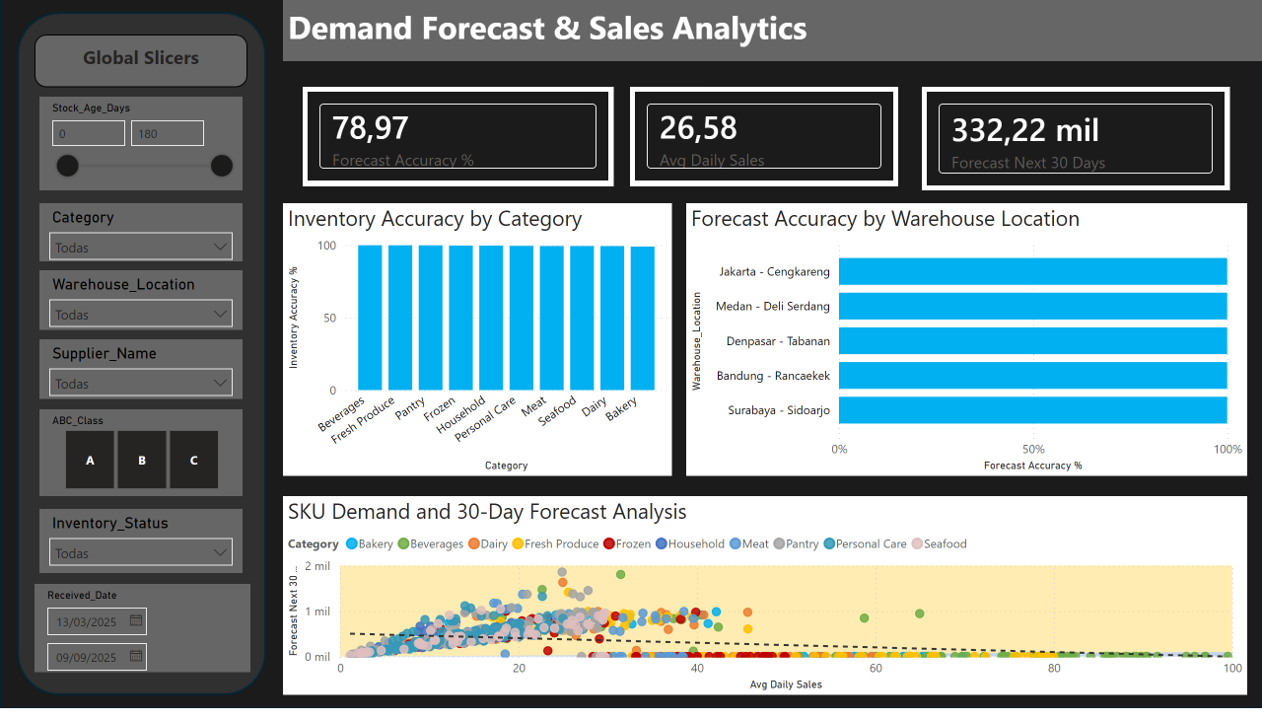

Layout of this report page (visuals, bound fields, positions):
{"tool":"powerbi","page":{"name":"DEMAND & FORECAST","canvas":[1280,720],"ordinal":2},"visuals":[{"type":"cardVisual","fields":{"Data":["Inventory.Forecast Accuracy %"]},"box":[306.7,87.8,315.4,100.8],"z":0},{"type":"cardVisual","fields":{"Data":["Inventory.Avg Daily Sales"]},"box":[639.4,87.8,272.2,100.8],"z":1000},{"type":"cardVisual","fields":{"Data":["Inventory.Forecast Next 30 Days"]},"box":[934.6,87.8,312.5,105.1],"z":2000},{"type":"columnChart","title":"Inventory Accuracy by Category","fields":{"Category":["Inventory.Category"],"Y":["Inventory.Inventory Accuracy %"]},"box":[286.6,205.9,394.6,276.5],"z":3000},{"type":"scatterChart","title":"SKU Demand and 30-Day Forecast Analysis","fields":{"X":["Inventory.Avg Daily Sales"],"Y":["Inventory.Forecast Next 30 Days"],"Category":["Inventory.SKU_Name"],"Series":["Inventory.Category"]},"box":[286.6,502.6,977.8,201.6],"z":4000},{"type":"hundredPercentStackedBarChart","title":"Forecast Accuracy  by Warehouse Location","fields":{"Y":["Inventory.Forecast Accuracy %"],"Category":["Inventory.Warehouse_Location"]},"box":[695.5,205.9,568.8,276.5],"z":5000},{"type":"slicer","fields":{"Values":["Inventory.Category"]},"box":[40.3,205.9,205.9,59],"z":6000},{"type":"slicer","fields":{"Values":["Inventory.Warehouse_Location"]},"box":[40.3,273.6,205.9,60.5],"z":7000},{"type":"slicer","fields":{"Values":["Inventory.Supplier_Name"]},"box":[40.3,344.2,205.9,60.5],"z":8000},{"type":"slicer","fields":{"Values":["Inventory.ABC_Class"]},"box":[40.3,414.7,205.9,87.8],"z":9000},{"type":"slicer","fields":{"Values":["Inventory.Inventory_Status"]},"box":[40.3,515.5,205.9,64.8],"z":10000},{"type":"slicer","fields":{"Values":["Inventory.Stock_Age_Days"]},"box":[40.3,97.9,205.9,95],"z":11000},{"type":"slicer","fields":{"Values":["Inventory.Received_Date"]},"box":[34.6,591.8,218.9,89.3],"z":12000},{"type":"textbox","box":[34.6,34.6,216,53.3],"z":13000},{"type":"textbox","box":[286.6,0,993.6,61.9],"z":14000}]}

Visuals, with their boxes in screenshot pixels (x1, y1, x2, y2), scaled from the page's 1280x720 canvas onto the 1262x720 screenshot:
cardVisual - Inventory.Forecast Accuracy %: 302/88/613/189
cardVisual - Inventory.Avg Daily Sales: 630/88/899/189
cardVisual - Inventory.Forecast Next 30 Days: 921/88/1230/193
"Inventory Accuracy by Category" columnChart: 283/206/672/482
"SKU Demand and 30-Day Forecast Analysis" scatterChart: 283/503/1247/704
"Forecast Accuracy  by Warehouse Location" hundredPercentStackedBarChart: 686/206/1247/482
slicer - Inventory.Category: 40/206/243/265
slicer - Inventory.Warehouse_Location: 40/274/243/334
slicer - Inventory.Supplier_Name: 40/344/243/405
slicer - Inventory.ABC_Class: 40/415/243/502
slicer - Inventory.Inventory_Status: 40/516/243/580
slicer - Inventory.Stock_Age_Days: 40/98/243/193
slicer - Inventory.Received_Date: 34/592/250/681
textbox: 34/35/247/88
textbox: 283/0/1261/62
